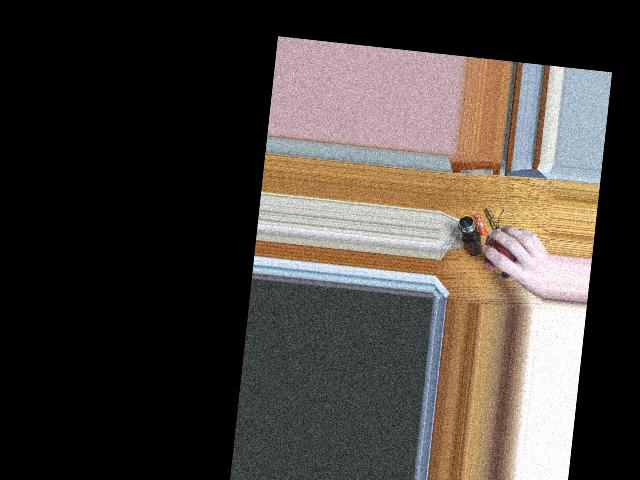onion: (489, 229, 525, 272)
